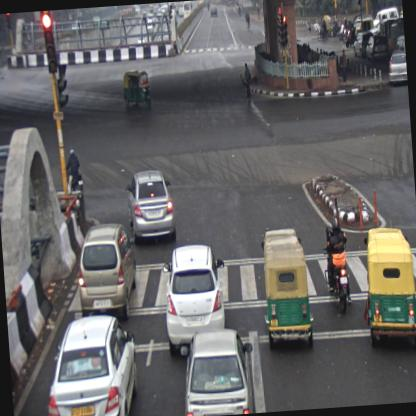car: (37, 313, 140, 415), (159, 244, 230, 358), (178, 326, 257, 415), (75, 223, 140, 322), (124, 170, 178, 246), (386, 51, 408, 90), (395, 33, 406, 75)
motorcycle: (322, 216, 354, 315), (64, 146, 83, 194)
